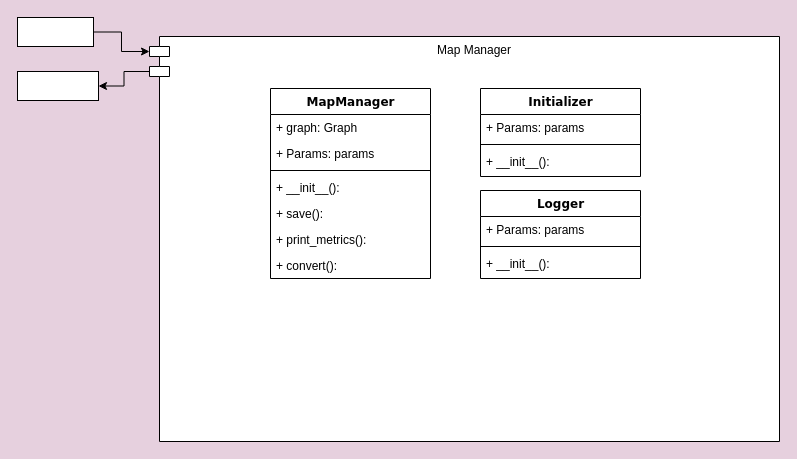
Image size: 797x459. Some labels were removed from this diagram. Each missing label, with the centre of its shape:
Graph: [55,31]
Map: [57,85]
